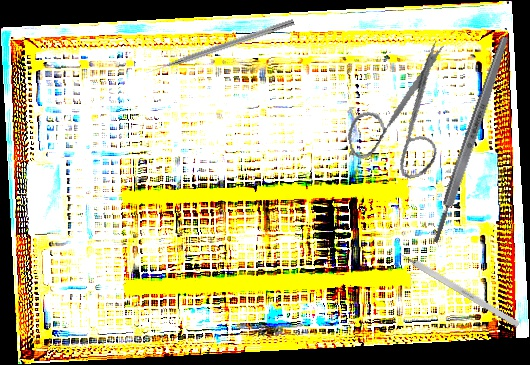Hook Surgical: (388, 245, 521, 328), (144, 17, 296, 77)
Iris Scissors: (330, 37, 472, 191)
Scalpel Handle: (429, 34, 512, 245)
